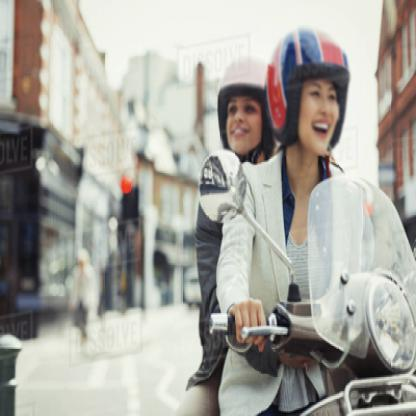Helmet: (261, 26, 363, 159), (218, 56, 279, 162)
